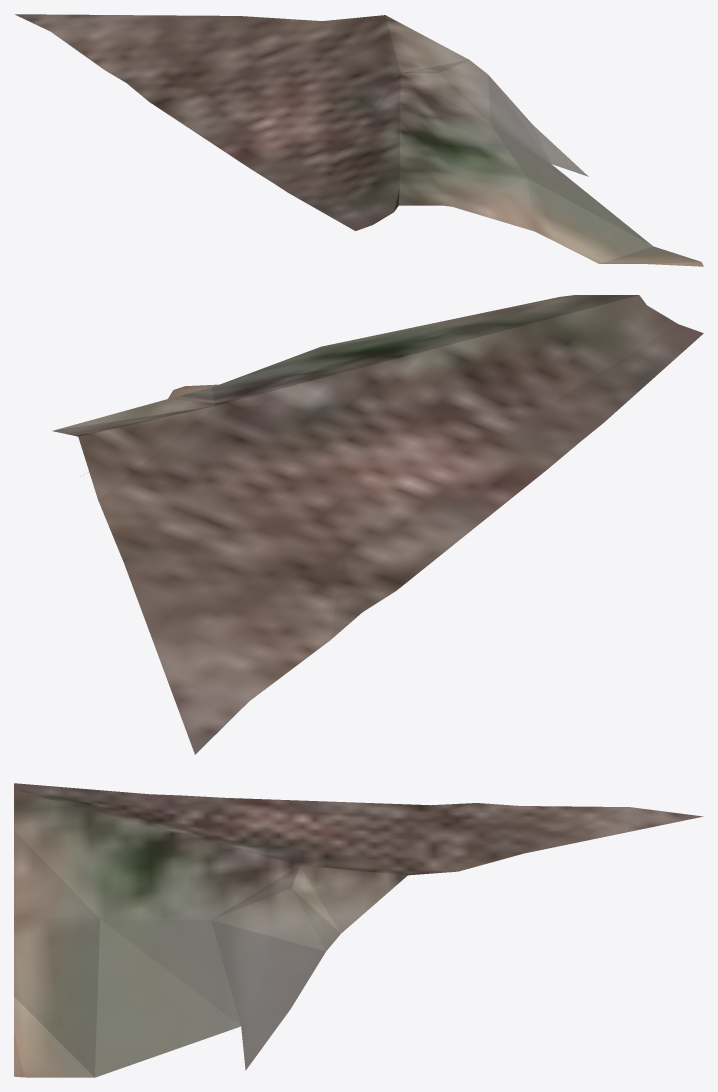
3 views of the same model, one above another, from view 1: azimuth 30°, elevation 25°; view 2: azimuth 150°, elevation 25°; view 3: azimuth 270°, elevation 25° (orthographic). The views are drawn at different scales.
Size of the model in its own units: 3.51 by 1.39 by 5.92.
1 material, 1 textured.
